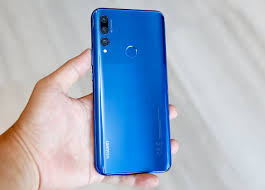huawei: (91, 6, 172, 174)
